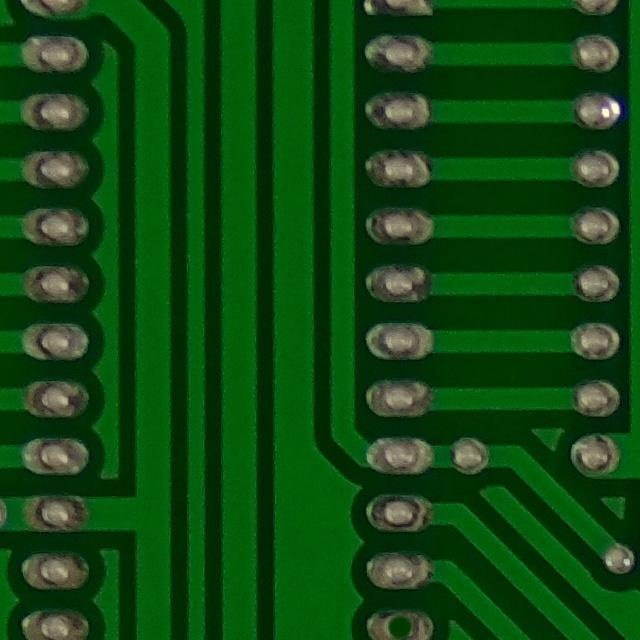missing_hole: (370, 597, 431, 640)
